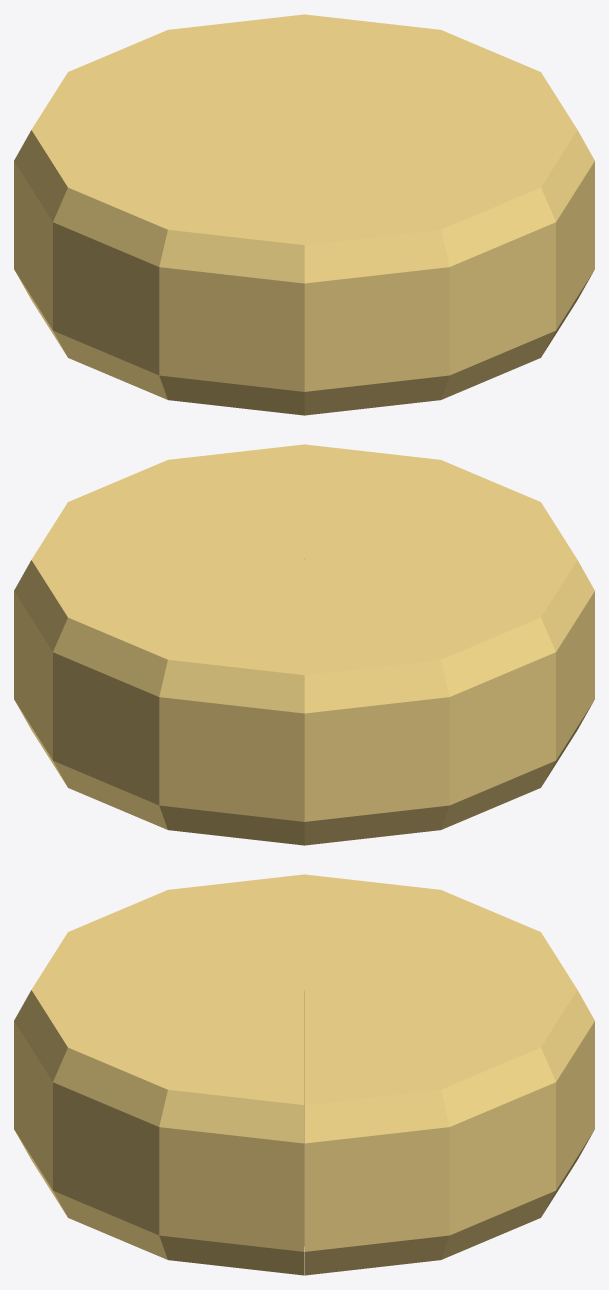
File: cheese.glb
3 renders of one model, top to bottom at view 1: azimuth 30°, elevation 25°; view 2: azimuth 150°, elevation 25°; view 3: azimuth 270°, elevation 25°, orthographic.
Visible parts, largest first — view 1: wedge.003, wedge.005, wedge.004, wedge.007, wedge.010, wedge.011, wedge.002, wedge.009, wedge, wedge.001, wedge.006, wedge.008; view 2: wedge.008, wedge.009, wedge, wedge.011, wedge.001, wedge.007, wedge.005, wedge.006, wedge.004, wedge.010, wedge.002, wedge.003; view 3: wedge.002, wedge.006, wedge.001, wedge.010, wedge, wedge.004, wedge.003, wedge.008, wedge.007, wedge.011, wedge.005, wedge.009.
Part boxes in pixels (x1,y1,x2,y2): wedge.003: (159,130,304,415); wedge.005: (304,130,449,415); wedge.004: (305,130,555,399); wedge.007: (53,130,303,399); wedge.010: (305,129,594,355); wedge.011: (14,129,303,355); wedge.002: (305,30,540,129); wedge.009: (68,30,303,129); wedge: (168,14,304,129); wedge.001: (304,14,440,129); wedge.006: (306,72,576,129); wedge.008: (32,72,302,129); wedge.008: (304,560,449,845); wedge.009: (159,560,304,845); wedge: (53,560,303,829); wedge.011: (305,560,555,829); wedge.001: (14,559,303,785); wedge.007: (305,559,594,785); wedge.005: (305,460,540,559); wedge.006: (68,460,303,559); wedge.004: (304,444,440,559); wedge.010: (168,444,304,559); wedge.002: (32,502,302,559); wedge.003: (306,502,576,559); wedge.002: (304,990,449,1275); wedge.006: (159,990,304,1275); wedge.001: (305,990,555,1259); wedge.010: (53,990,303,1259); wedge: (305,989,594,1215); wedge.004: (14,989,303,1215); wedge.003: (68,890,303,989); wedge.008: (305,890,540,989); wedge.007: (168,874,304,989); wedge.011: (304,874,440,989); wedge.005: (32,932,302,989); wedge.009: (306,932,576,989).
Bounding box in the file's own units: 0.68 × 0.22 × 0.68.
